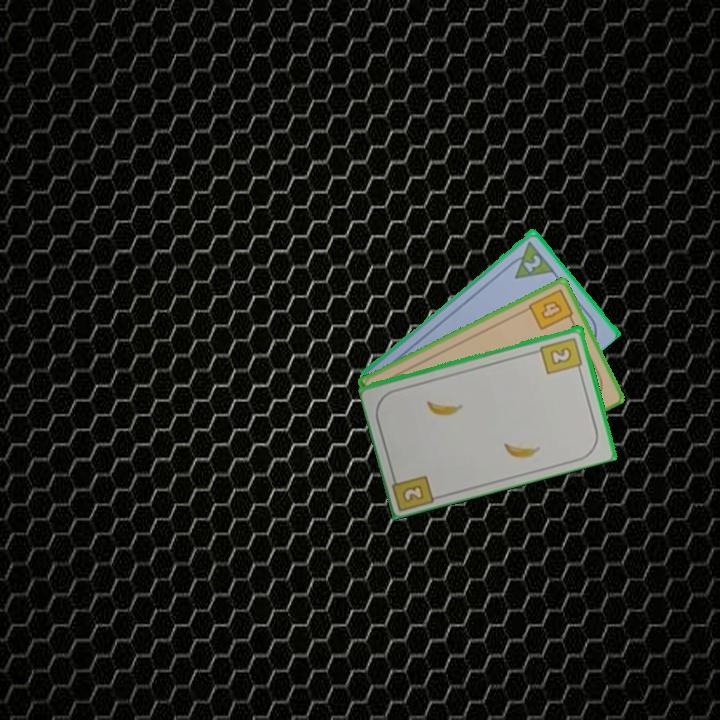2b: (537, 334, 585, 377), (399, 481, 427, 505)
2p: (520, 251, 544, 275)
4b: (525, 285, 577, 333)
